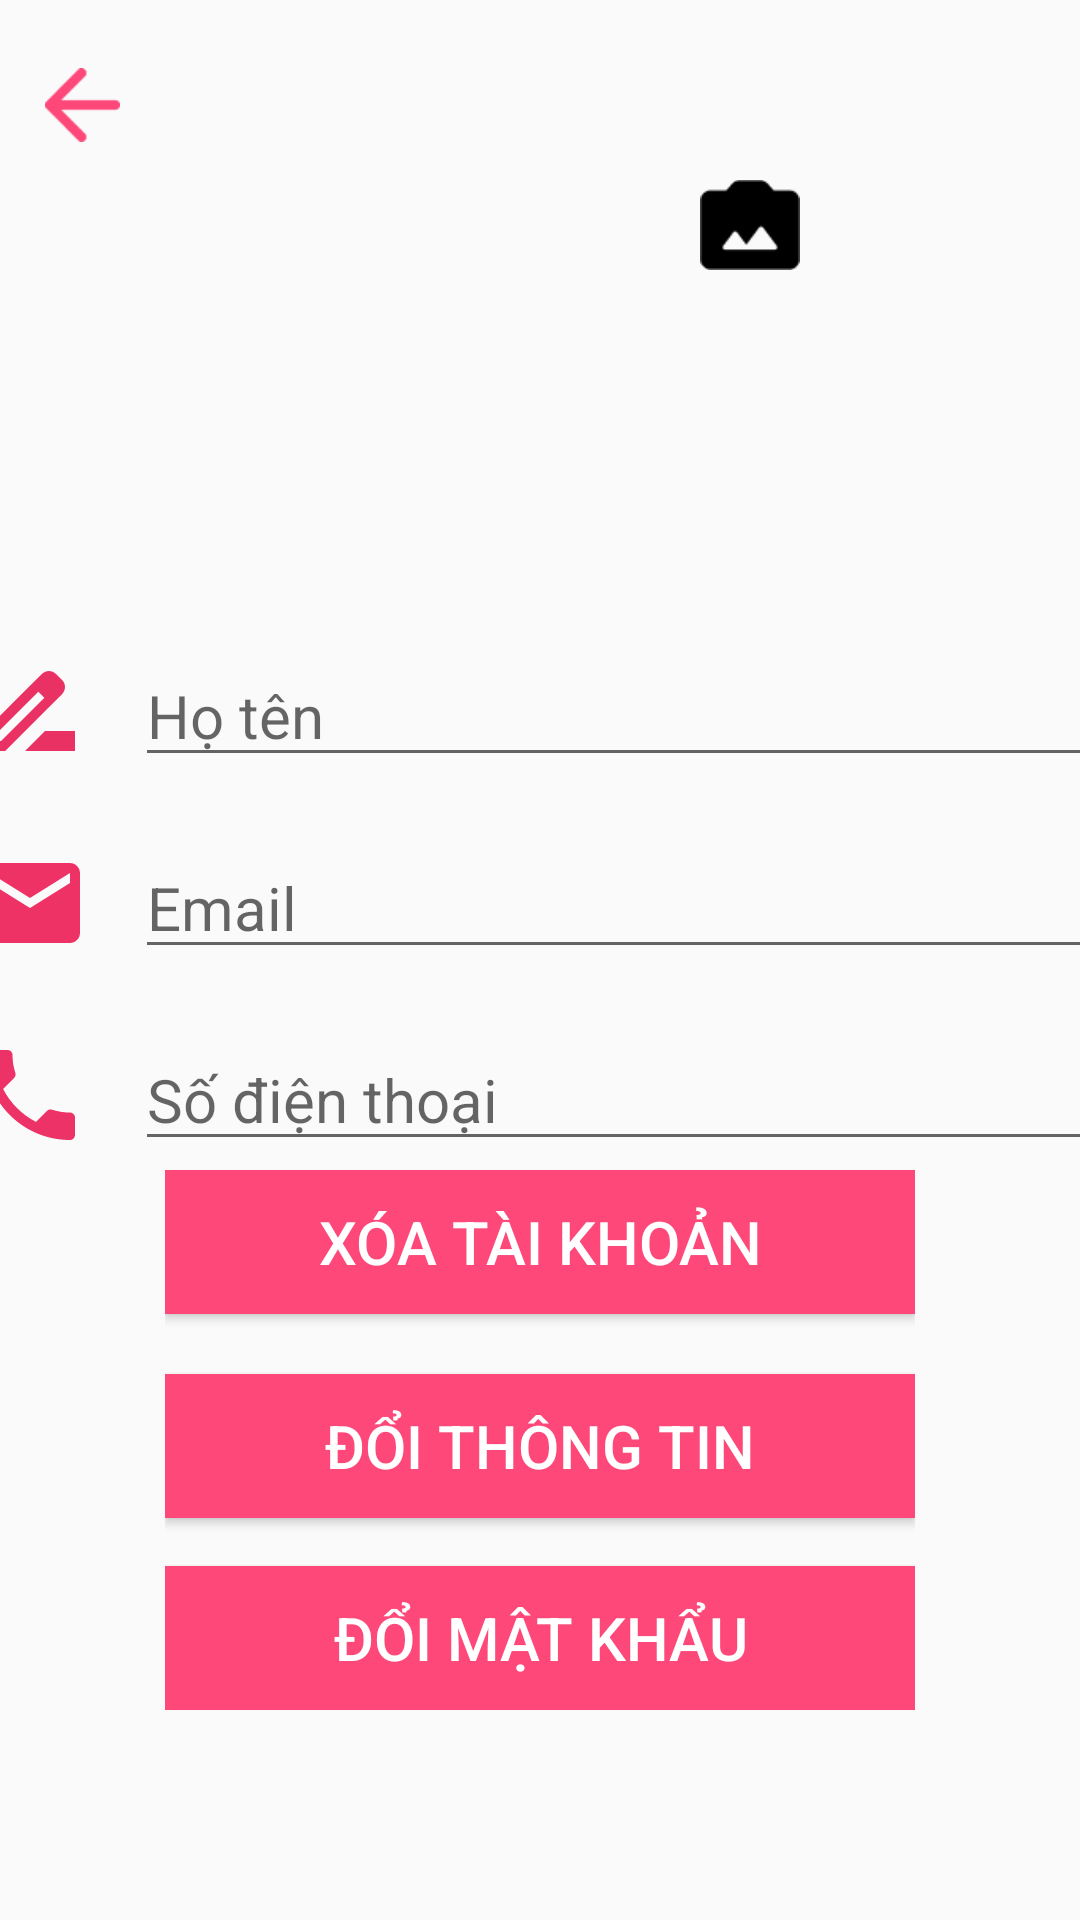

Where to tap for icons on this 1080*1920 app screen, as [x,y]:
back: [82,105]
imagegallery: [750,225]
